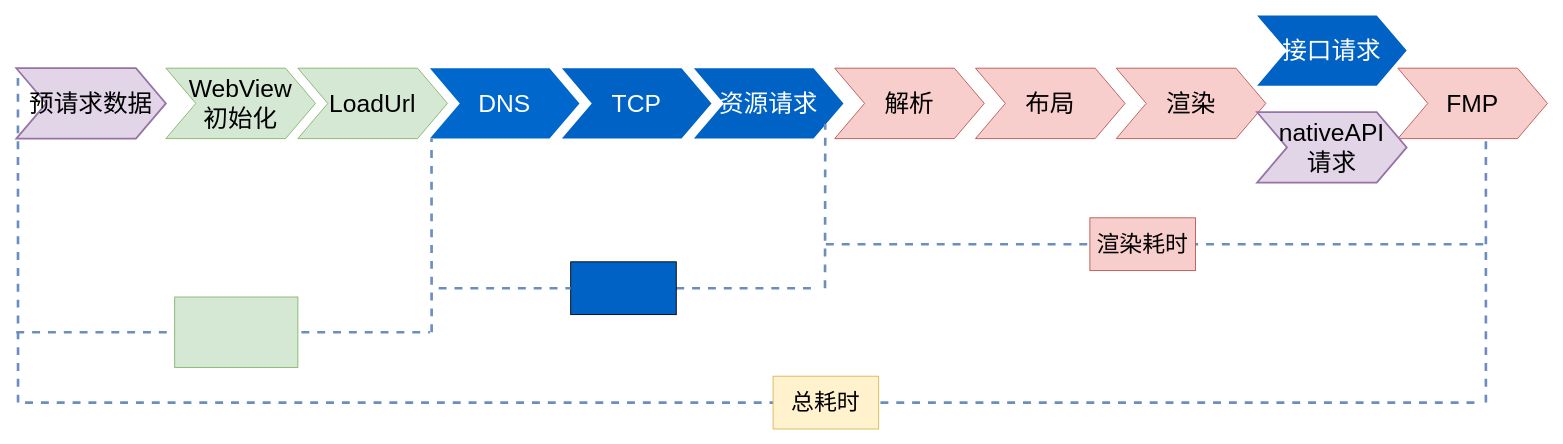
Some shapes in this 1563 by 444 pixel diagram are drawn without their labels. Each missing label, with the centre of its shape:
Native 耗时: (236,331)
网络耗时: (623,288)
